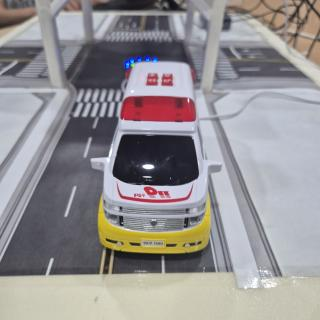Ambulance: (91, 61, 222, 254)
